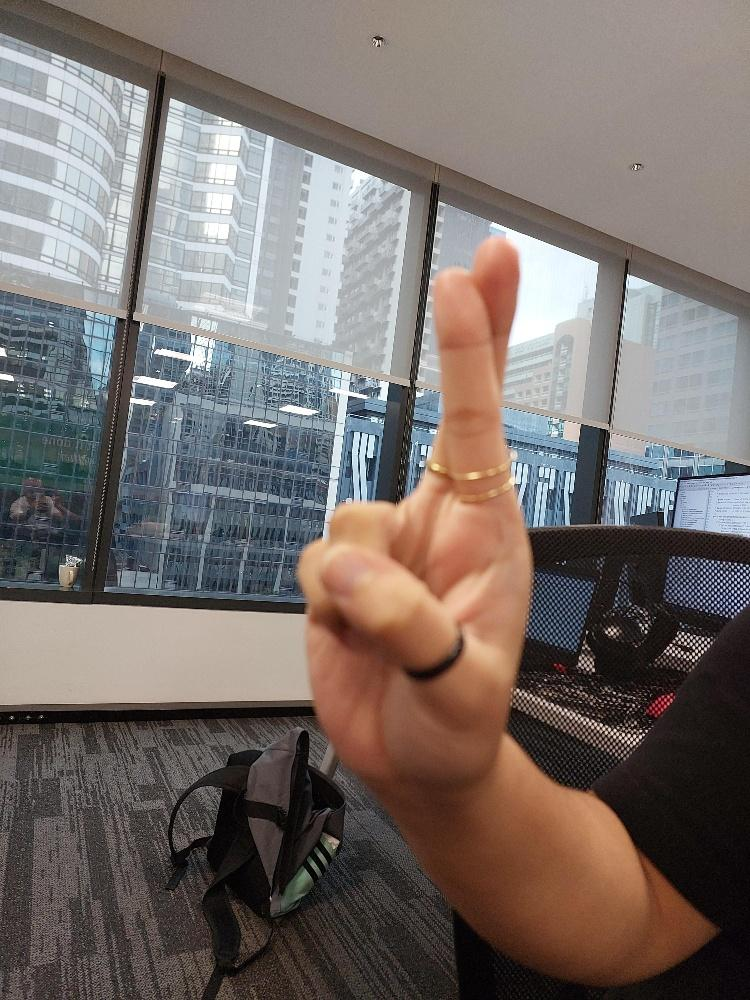r: (294, 229, 536, 785)
